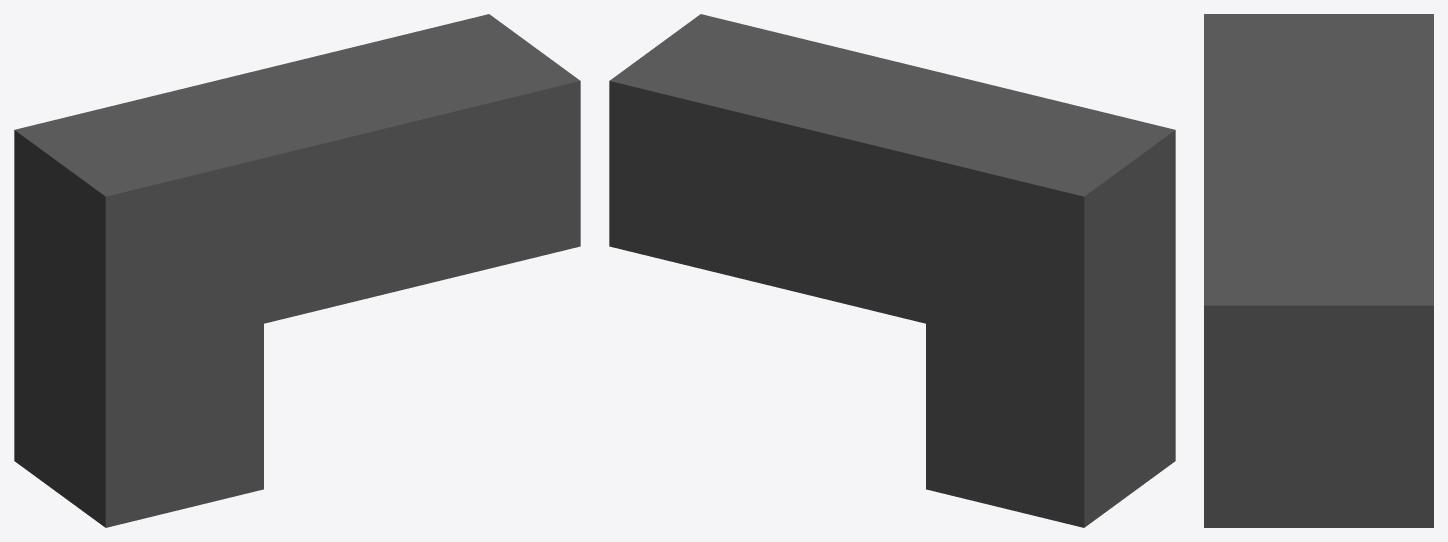
File: Pistol.obj
3 renders of one model, left to right at view 1: azimuth 30°, elevation 25°; view 2: azimuth 150°, elevation 25°; view 3: azimuth 270°, elevation 25°, orthographic. The views are drawn at different scales.
Parts seen in each view (by area): view 1: Pistol; view 2: Pistol; view 3: Pistol.
Boxes of the visible parts, x1,y1,x2,y2 form: Pistol: (14,14,580,527); Pistol: (609,14,1175,527); Pistol: (1204,14,1433,527).
Bounding box in the file's own units: 3 × 2 × 1.
1 material, 1 textured.
